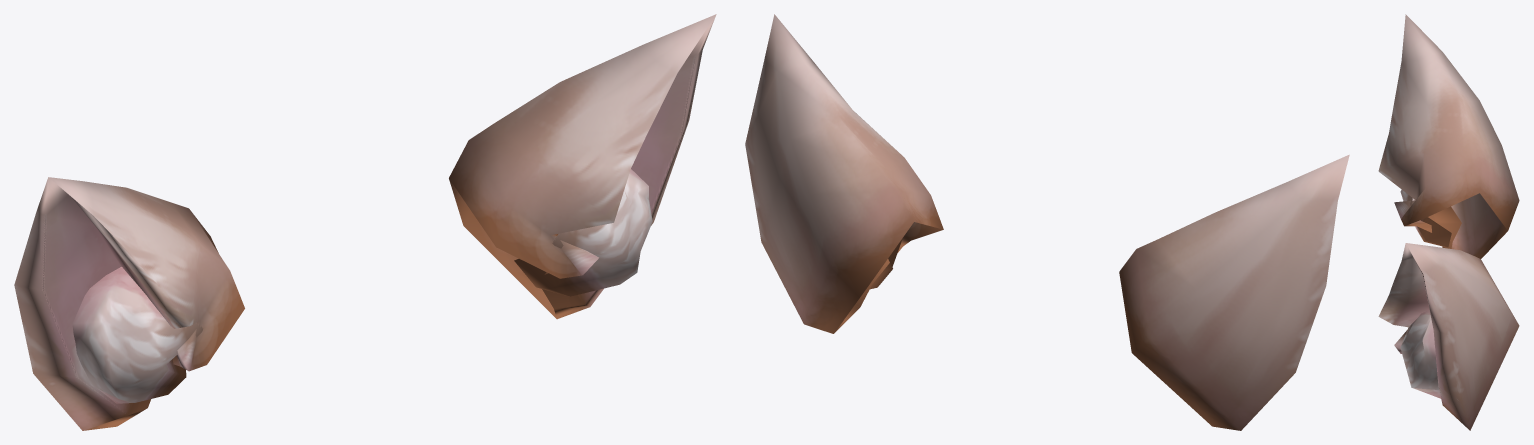
Rendered from Fox_ears_separate.fbx.
The picture shows the model from 3 angles, left to right: view 1: azimuth 30°, elevation 25°; view 2: azimuth 150°, elevation 25°; view 3: azimuth 270°, elevation 25°; orthographic projection. The views are drawn at different scales.
Parts seen in each view (by area): view 1: Fox_ears_separate; view 2: Fox_ears_separate; view 3: Fox_ears_separate.
Boxes of the visible parts, box(x1,y1,x2,y2) form: Fox_ears_separate: box(14, 14, 716, 430); Fox_ears_separate: box(745, 14, 1349, 430); Fox_ears_separate: box(1378, 14, 1519, 430).
Bounding box in the file's own units: 2.24 × 0.9855 × 0.5779.
